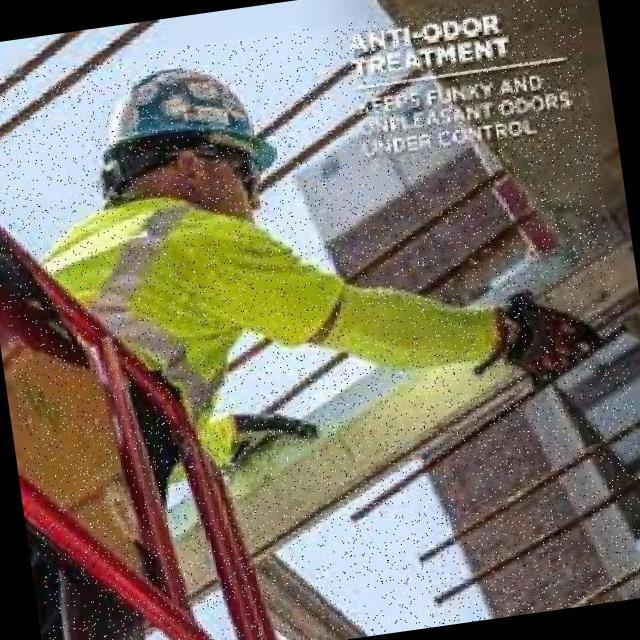Gloves: (489, 270, 607, 397)
Helmet: (80, 53, 280, 190)
Person: (13, 26, 620, 602)
Safety Vest: (26, 173, 366, 497)
